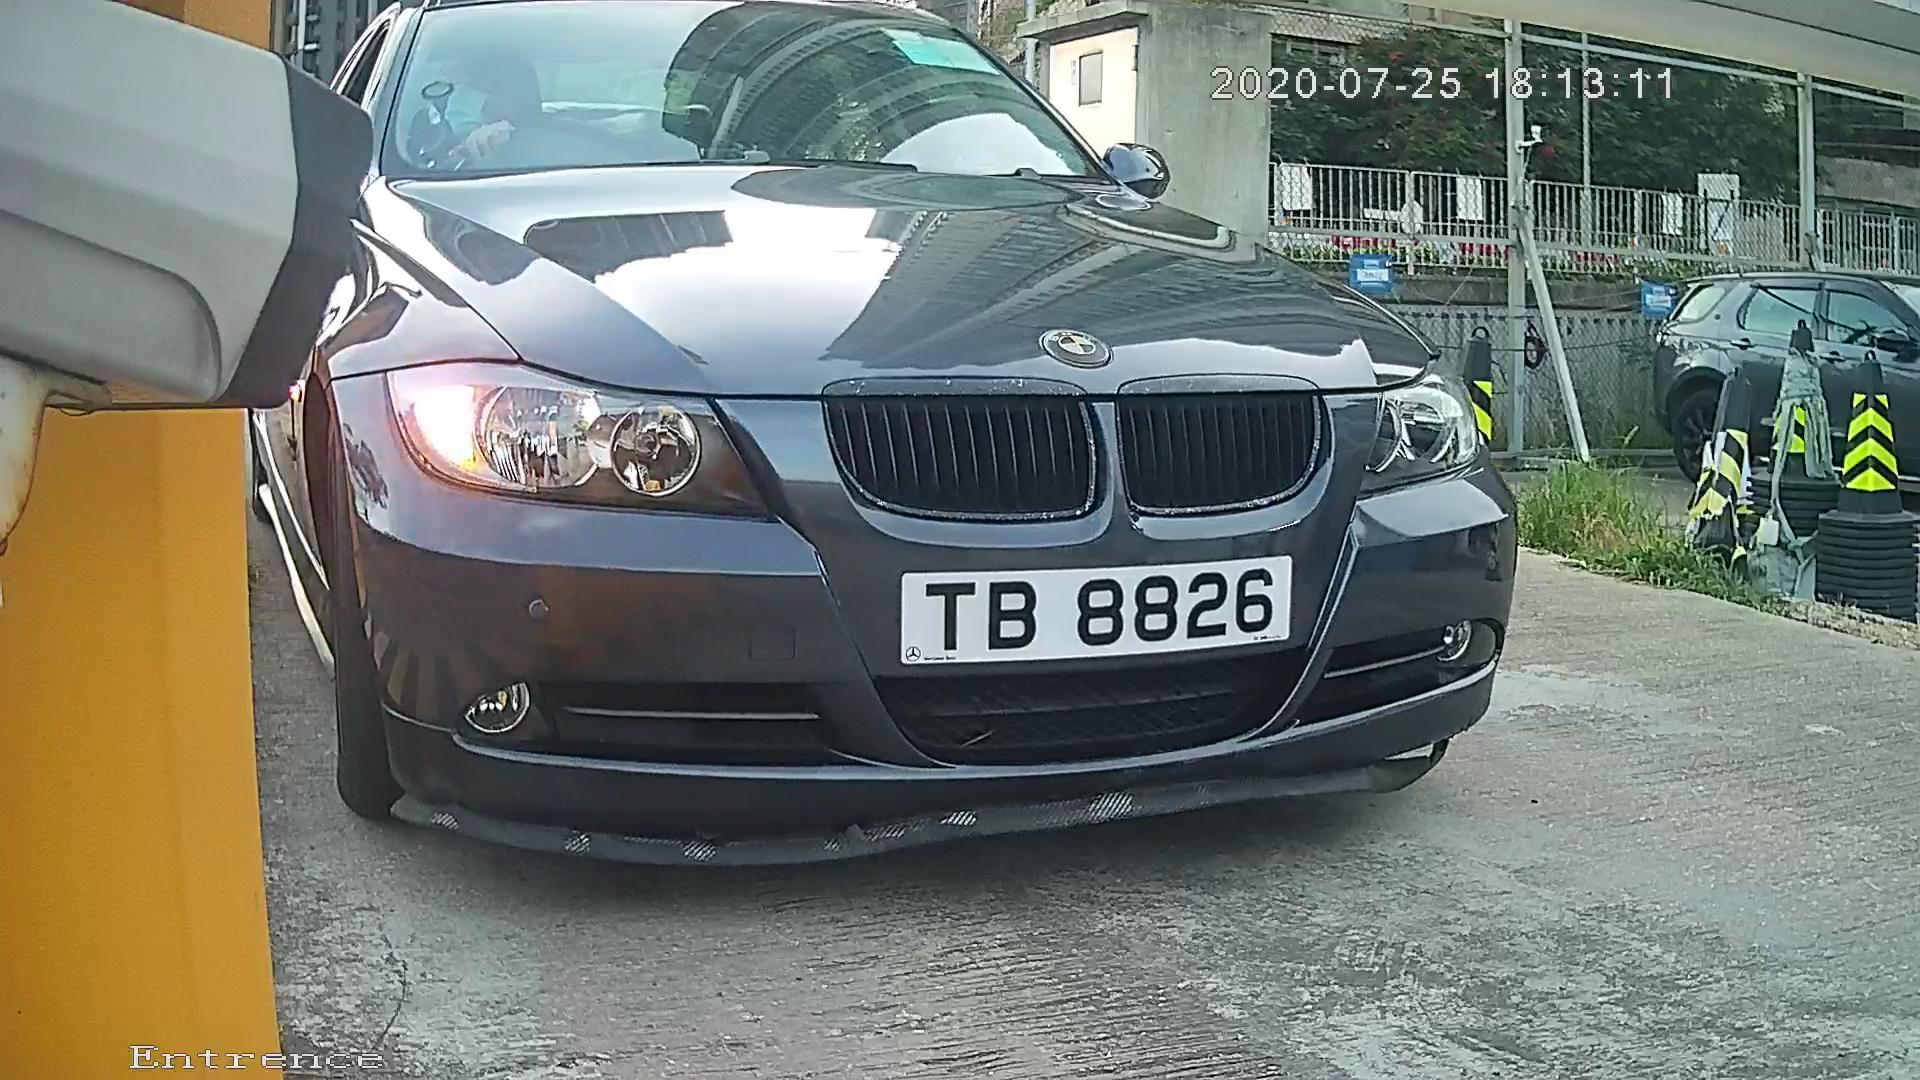Car: (61, 1, 1655, 888)
License Plate: (901, 536, 1312, 685)
